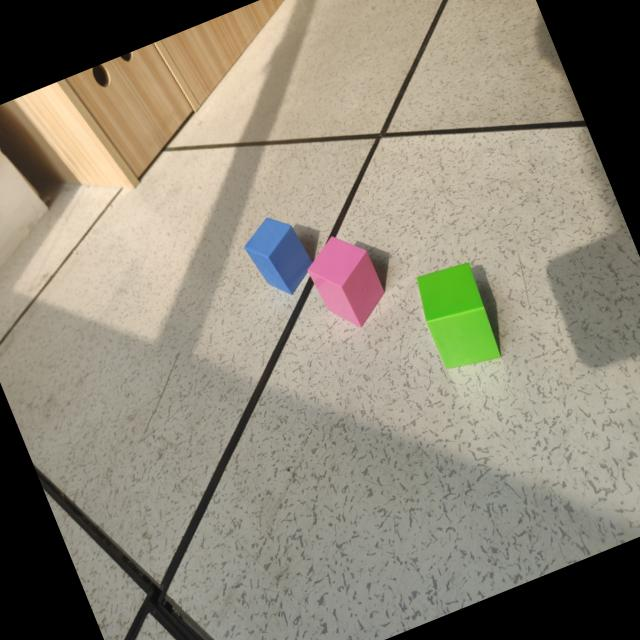blue: (244, 219, 318, 297)
green: (417, 263, 502, 370)
pink: (308, 237, 390, 329)
